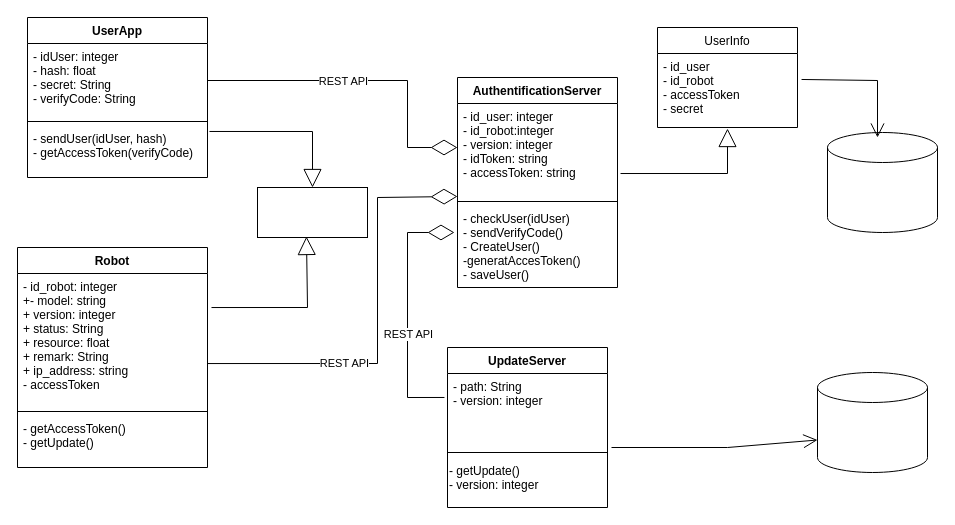
This 955x525 diagram has some shape labels left out. The centre of each missing label's shape, as x and y in pixels:
DataBase: point (882, 182)
UpdateFile: point (872, 422)
«interface» getAcccesToken: point (312, 212)
